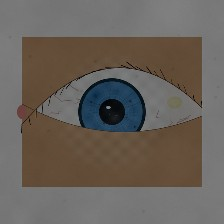pinguecula_lesion: (160, 90, 190, 115)
